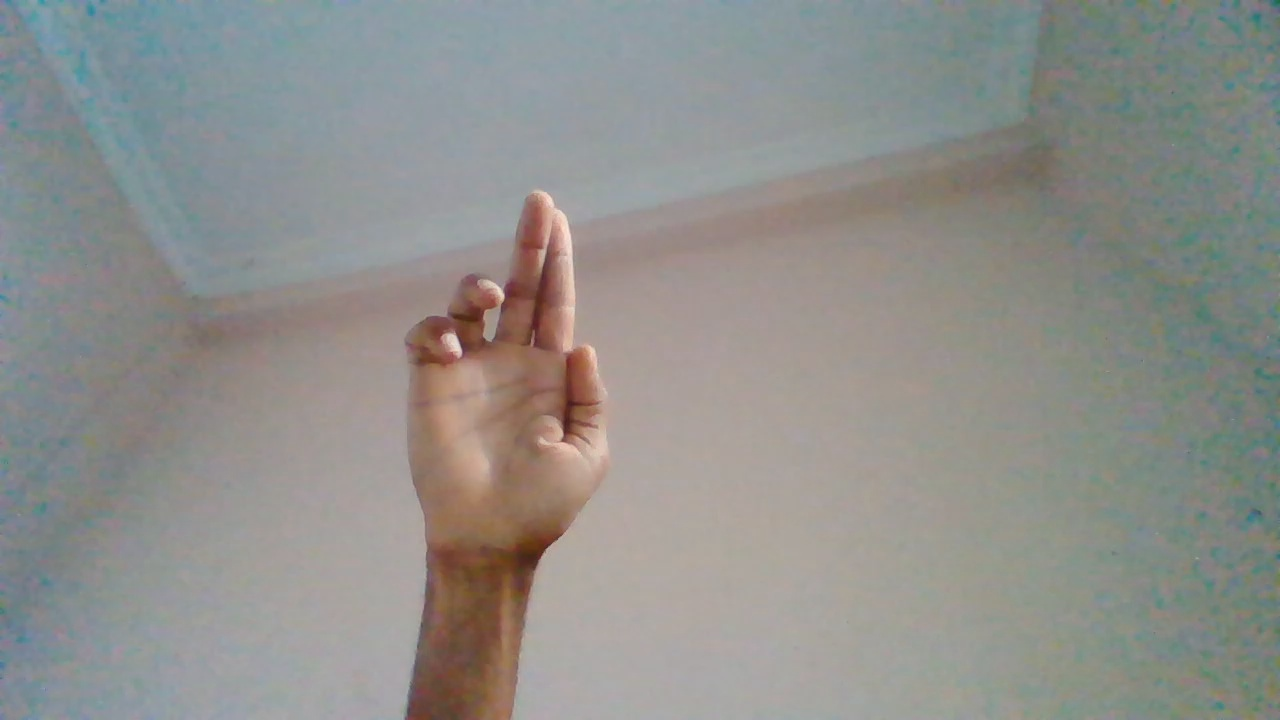gne: (397, 195, 614, 625)
